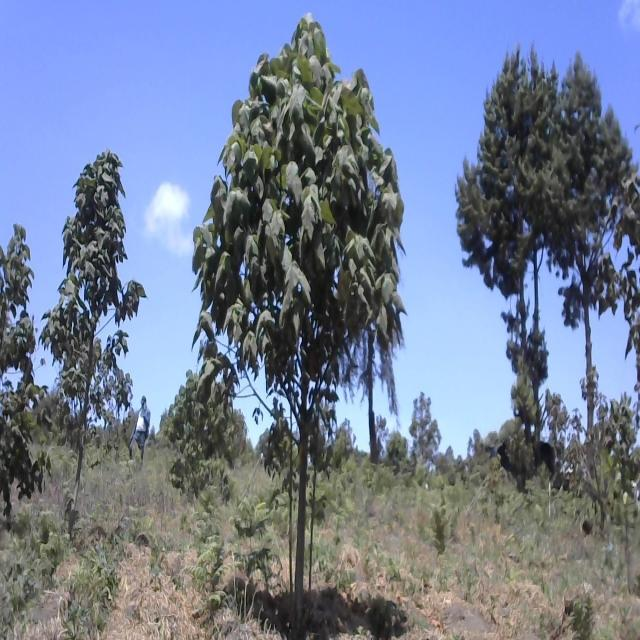Vitex keniensis: (184, 23, 413, 638), (44, 145, 142, 522)
cedrus: (443, 25, 558, 386), (542, 39, 634, 311)
other: (0, 211, 41, 503)
